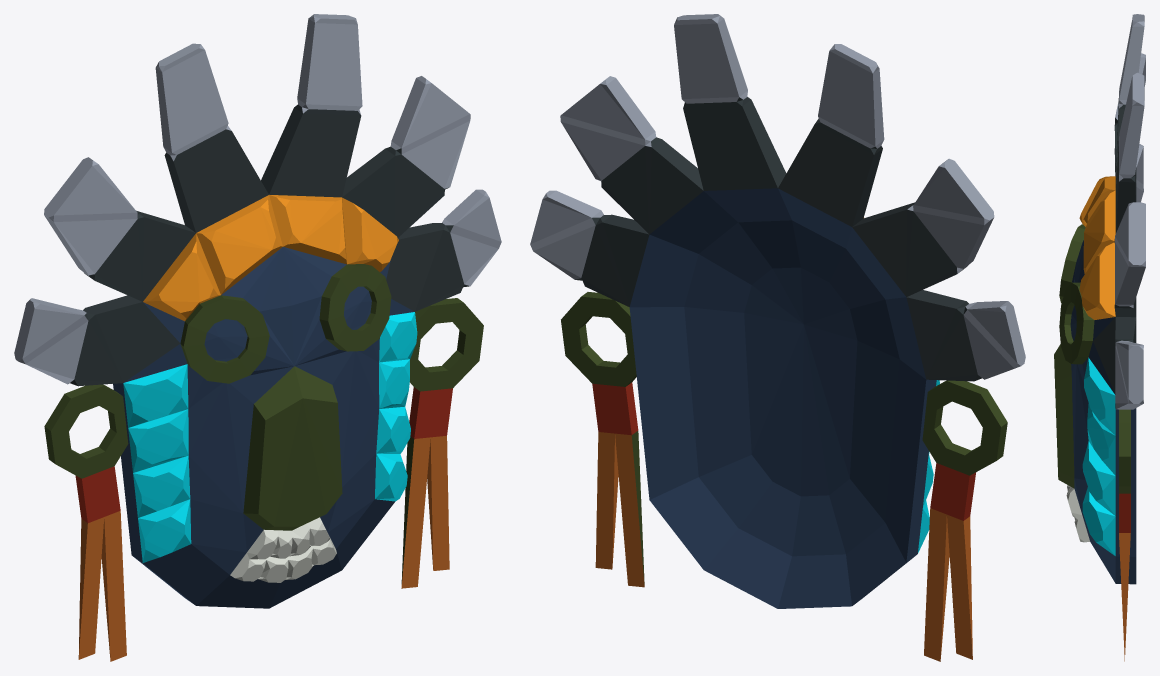
Rendered from Mask_3.fbx.
3 renders of one model, left to right at view 1: azimuth 30°, elevation 25°; view 2: azimuth 150°, elevation 25°; view 3: azimuth 270°, elevation 25°, orthographic. The views are drawn at different scales.
Parts seen in each view (by area): view 1: Mask_3; view 2: Mask_3; view 3: Mask_3.
Part boxes in pixels (<box>): Mask_3: <box>14,14,501,661</box>; Mask_3: <box>530,14,1025,661</box>; Mask_3: <box>1054,14,1145,661</box>.
Size of the model in its own units: 0.7361 by 0.8605 by 0.1327.
